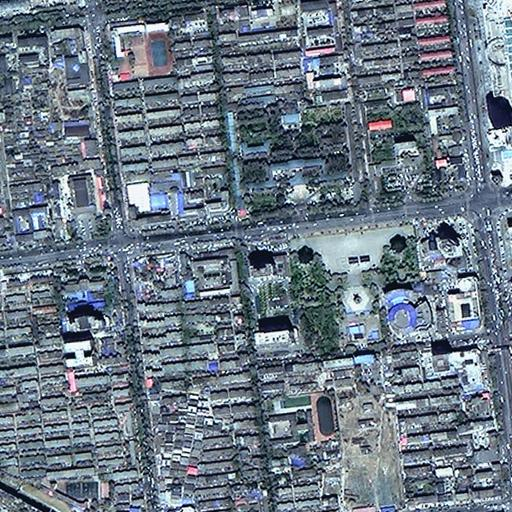school: (263, 387, 339, 449), (105, 20, 176, 80)
